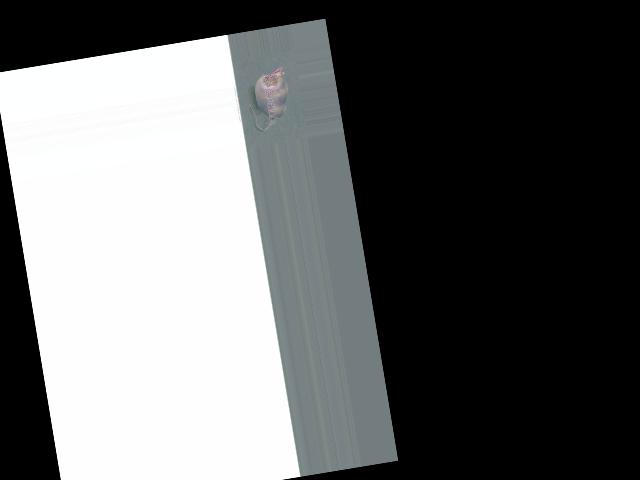beet: (243, 64, 294, 132)
